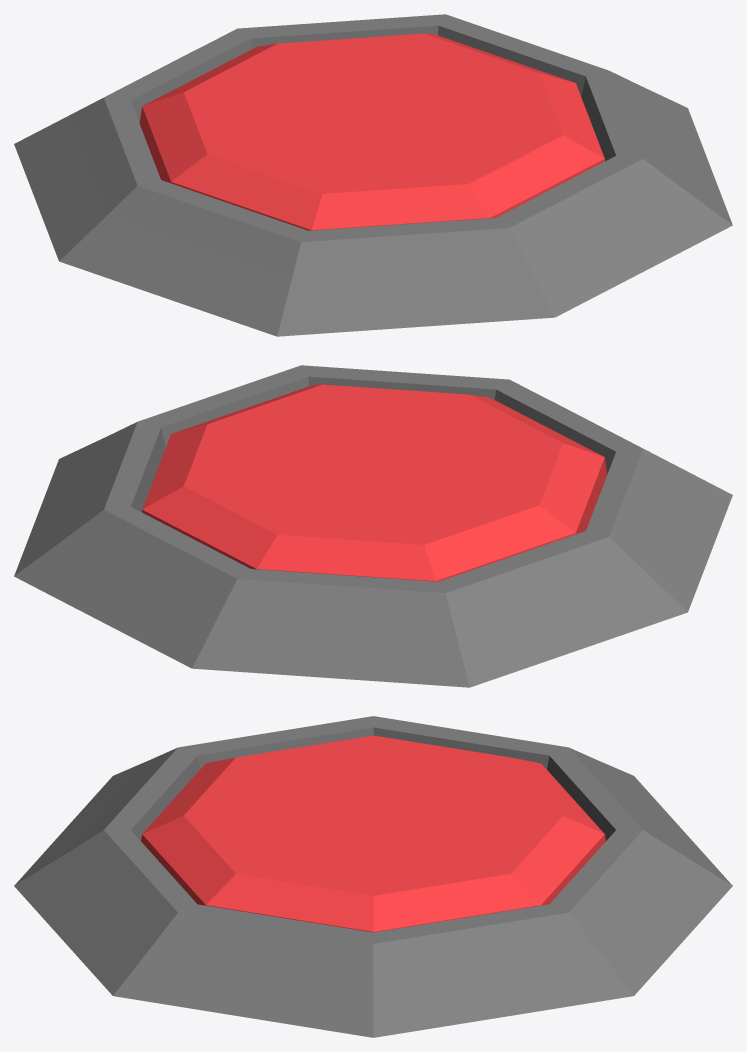
Rendered from BUTTON.fbx.
The picture shows the model from 3 angles, top to bottom: view 1: azimuth 30°, elevation 25°; view 2: azimuth 150°, elevation 25°; view 3: azimuth 270°, elevation 25°; orthographic projection.
Parts seen in each view (by area): view 1: pButtonBase, pButtonButton; view 2: pButtonBase, pButtonButton; view 3: pButtonBase, pButtonButton.
Part boxes in pixels (x1,y1,x2,y2): pButtonBase: [14, 14, 732, 336]; pButtonButton: [139, 33, 604, 230]; pButtonBase: [14, 365, 732, 687]; pButtonButton: [142, 384, 607, 581]; pButtonBase: [14, 716, 732, 1037]; pButtonButton: [141, 735, 605, 932].
Size of the model in its own units: 6.3 by 0.6961 by 6.3.
1 material, 1 textured.
